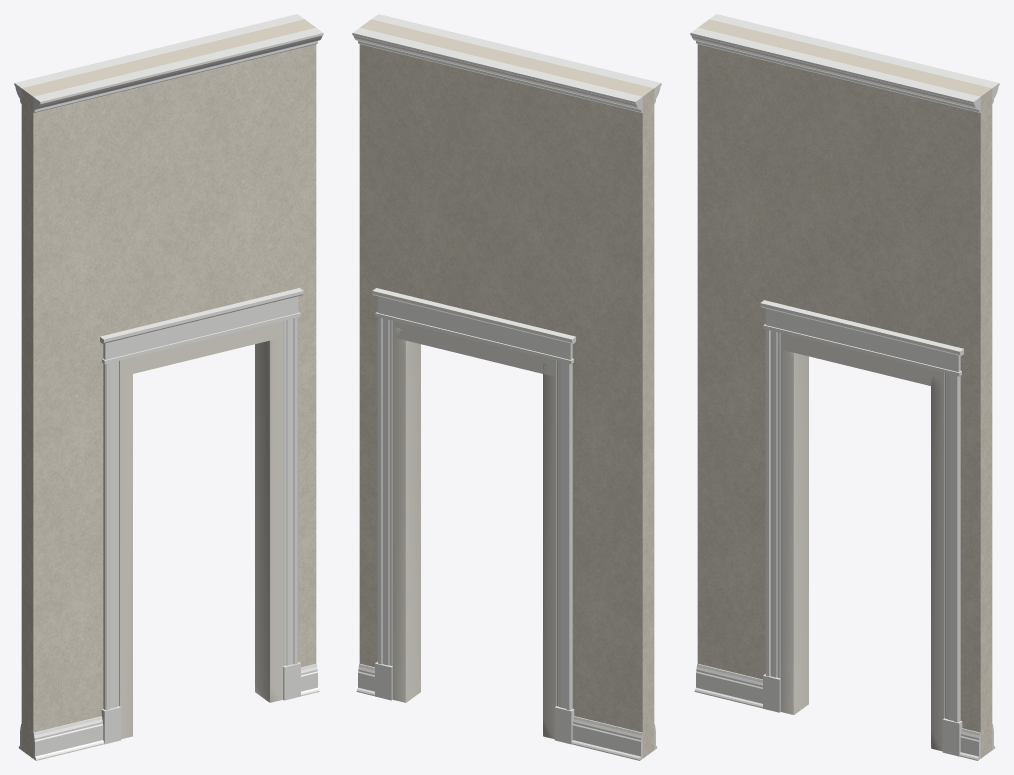
The model's file is interior_wall_end_doorway.glb.
The picture shows the model from 3 angles, left to right: view 1: azimuth 30°, elevation 25°; view 2: azimuth 150°, elevation 25°; view 3: azimuth 330°, elevation 25°; orthographic projection.
Parts seen in each view (by area): view 1: interior_wall_end_doorway_plaster, molduras, interior_wall_end_doorway_frame; view 2: interior_wall_end_doorway_plaster, molduras, interior_wall_end_doorway_frame; view 3: interior_wall_end_doorway_plaster, molduras, interior_wall_end_doorway_frame.
Part boxes in pixels (x1=…): interior_wall_end_doorway_plaster: x1=21, y1=19, x2=316, y2=758; molduras: x1=14, y1=14, x2=323, y2=760; interior_wall_end_doorway_frame: x1=119, y1=321, x2=283, y2=738; interior_wall_end_doorway_plaster: x1=359, y1=19, x2=654, y2=758; molduras: x1=352, y1=14, x2=661, y2=760; interior_wall_end_doorway_frame: x1=392, y1=321, x2=556, y2=738; interior_wall_end_doorway_plaster: x1=697, y1=19, x2=992, y2=758; molduras: x1=690, y1=14, x2=999, y2=760; interior_wall_end_doorway_frame: x1=780, y1=333, x2=944, y2=751.
Bounding box in the file's own units: 1.7 × 3.8 × 0.27.
3 materials, 1 textured.
